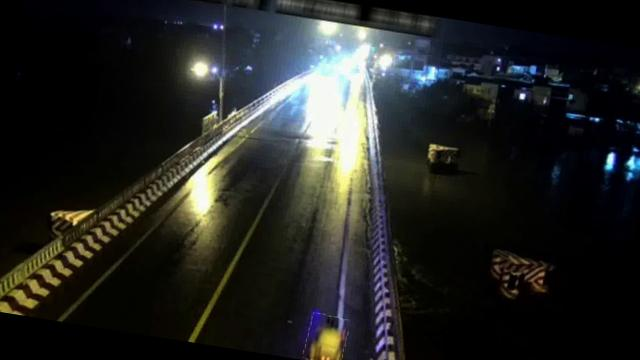Bike: (303, 312, 350, 360)
